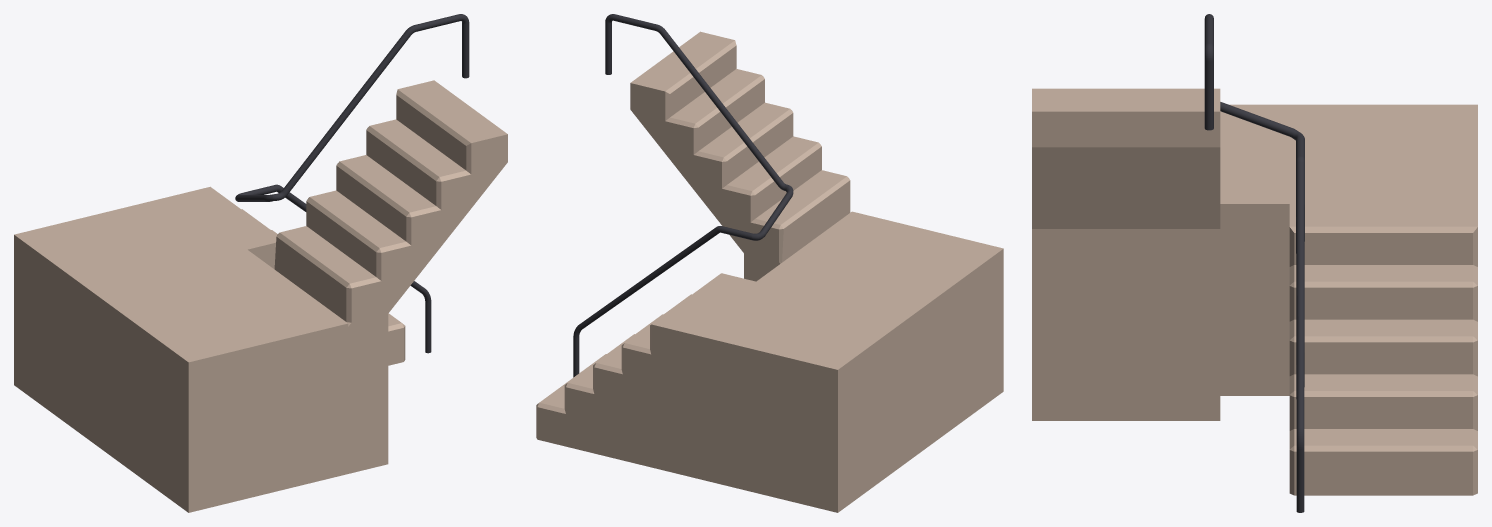
The model's file is Stairs.fbx.
The picture shows the model from 3 angles, left to right: view 1: azimuth 30°, elevation 25°; view 2: azimuth 150°, elevation 25°; view 3: azimuth 270°, elevation 25°; orthographic projection. The views are drawn at different scales.
Parts seen in each view (by area): view 1: Stairs; view 2: Stairs; view 3: Stairs.
Boxes of the visible parts, x1,y1,x2,y2 form: Stairs: [14, 14, 507, 512]; Stairs: [536, 14, 1003, 512]; Stairs: [1032, 14, 1477, 512].
Size of the model in its own units: 438 by 436 by 379.
